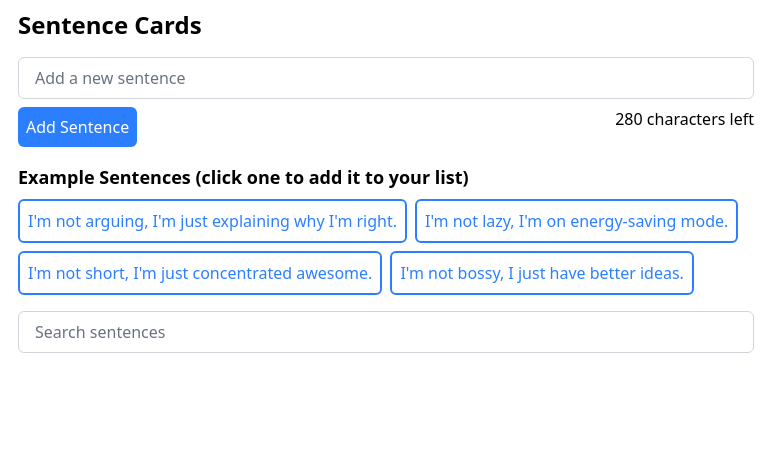
Test: SentenceCards › deletes a sentence
The image size is (773, 473).
Type "Test sentence" into the field labelled "Add a new sentence". click: (386, 78)
box: [18,57,754,99]
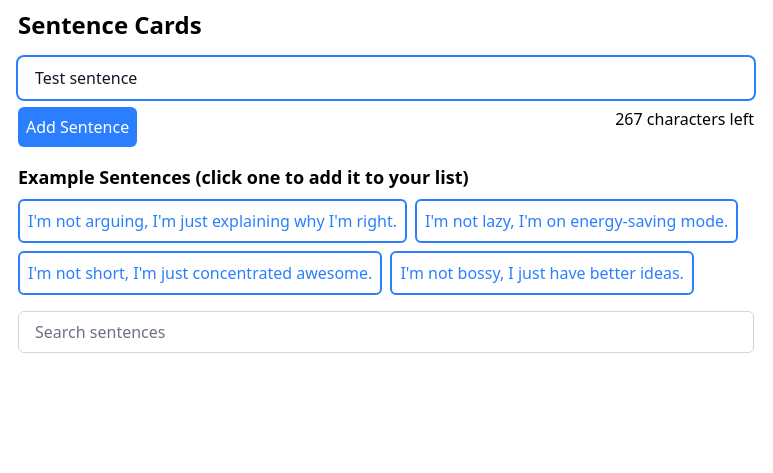
Click the button "Add Sentence". click: (78, 127)
box: [18,107,137,147]
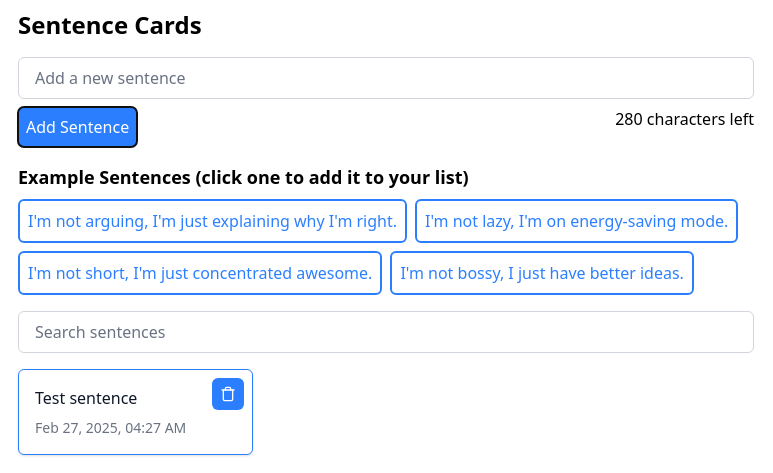
Click the button named "delete sentence". click: (228, 394)
box: [212,378,244,410]
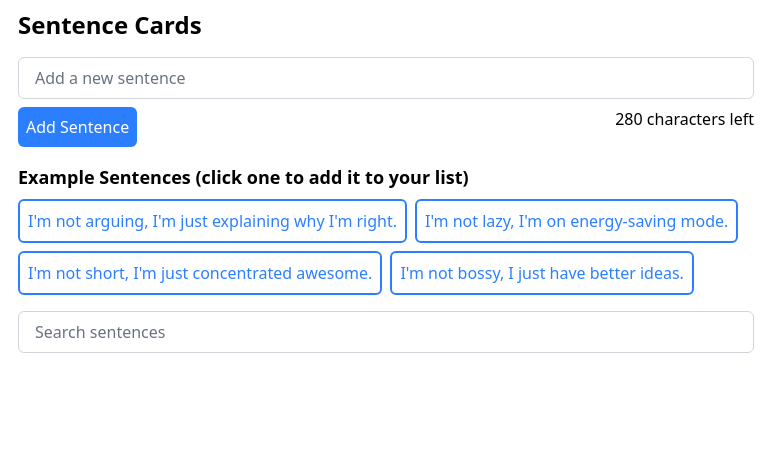
expect the text "Test sentence" is gone: met
